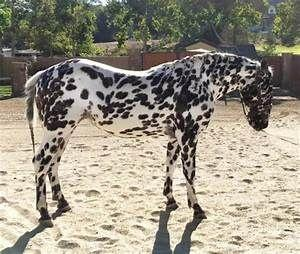horse: (23, 51, 273, 227)
